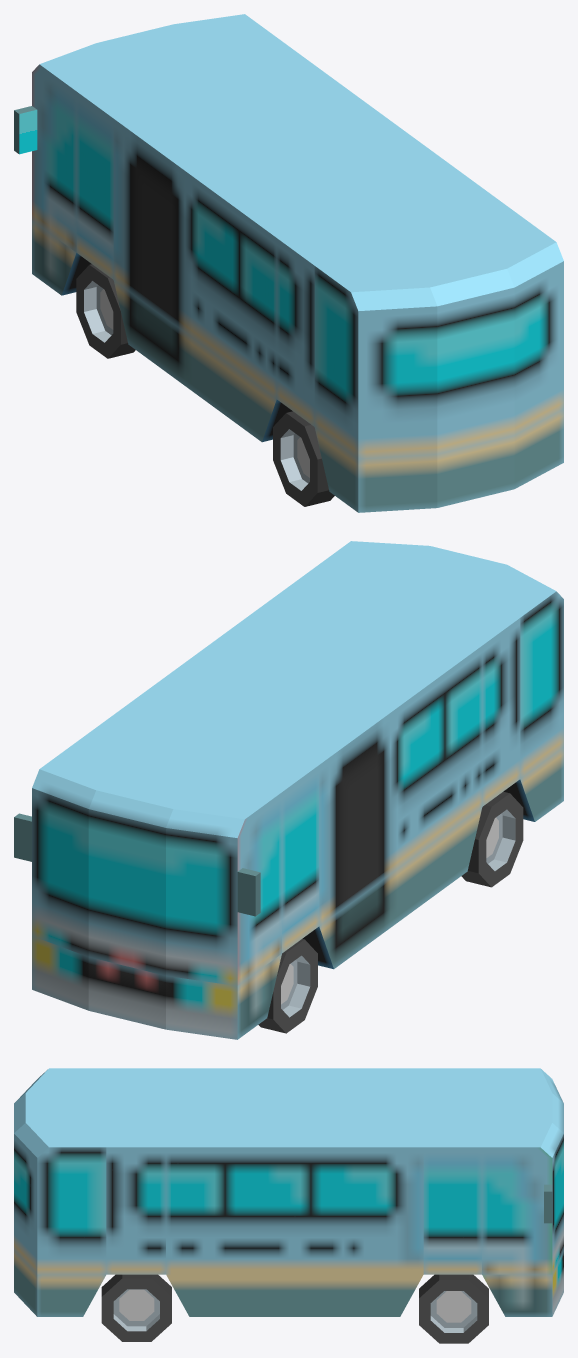
The model's file is Angkot.fbx.
The picture shows the model from 3 angles, top to bottom: view 1: azimuth 30°, elevation 25°; view 2: azimuth 150°, elevation 25°; view 3: azimuth 270°, elevation 25°; orthographic projection. The views are drawn at different scales.
Parts seen in each view (by area): view 1: Body, cylinder, cylinder_3, cube; view 2: Body, cylinder, cylinder_3, cube, cube_1; view 3: Body, cylinder_2, cylinder_1, cube_1.
Boxes of the visible parts, x1,y1,x2,y2 form: Body: (32,14,563,512); cylinder: (273,411,334,506); cylinder_3: (76,264,135,358); cube: (14,106,37,154); Body: (32,541,563,1039); cylinder: (461,791,523,887); cylinder_3: (258,939,317,1033); cube: (237,868,260,916); cube_1: (14,813,31,861); Body: (14,1068,563,1316); cylinder_2: (419,1274,488,1343); cylinder_1: (101,1274,171,1341); cube_1: (544,1184,552,1223).
Size of the model in its own units: 505 by 497 by 1262.
Materials: 2 (2 with a texture image).
